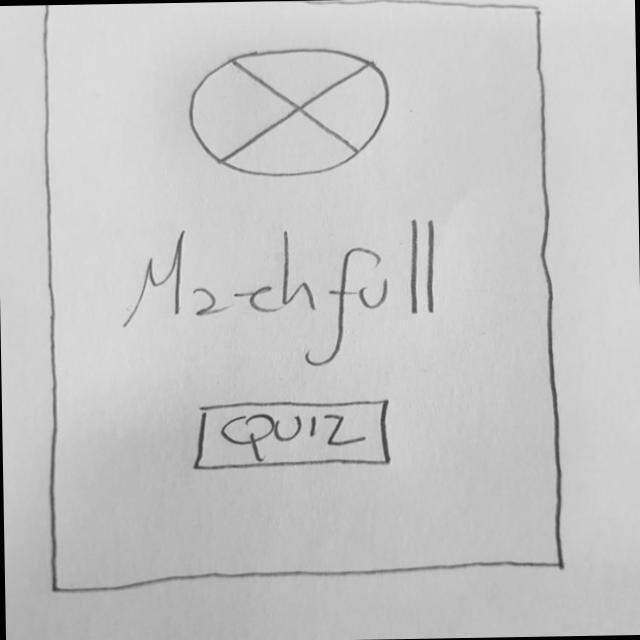button: (190, 398, 402, 474)
container: (31, 1, 569, 600)
image: (184, 43, 400, 186)
label: (113, 216, 464, 371)
